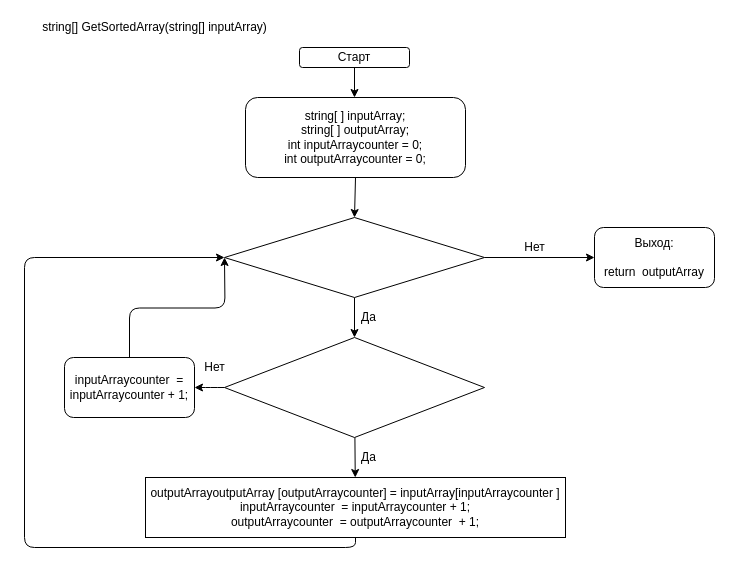
Some shapes in this 732 by 573 pixel diagram are drawn without their labels. Here are the shapes that lost their labels. From the top down, the centre of each, then its label:
point 354,257: inputArraycounter < inputArray.Lengh
point 354,387: inputArray[inputArraycounter ].length <= 3
